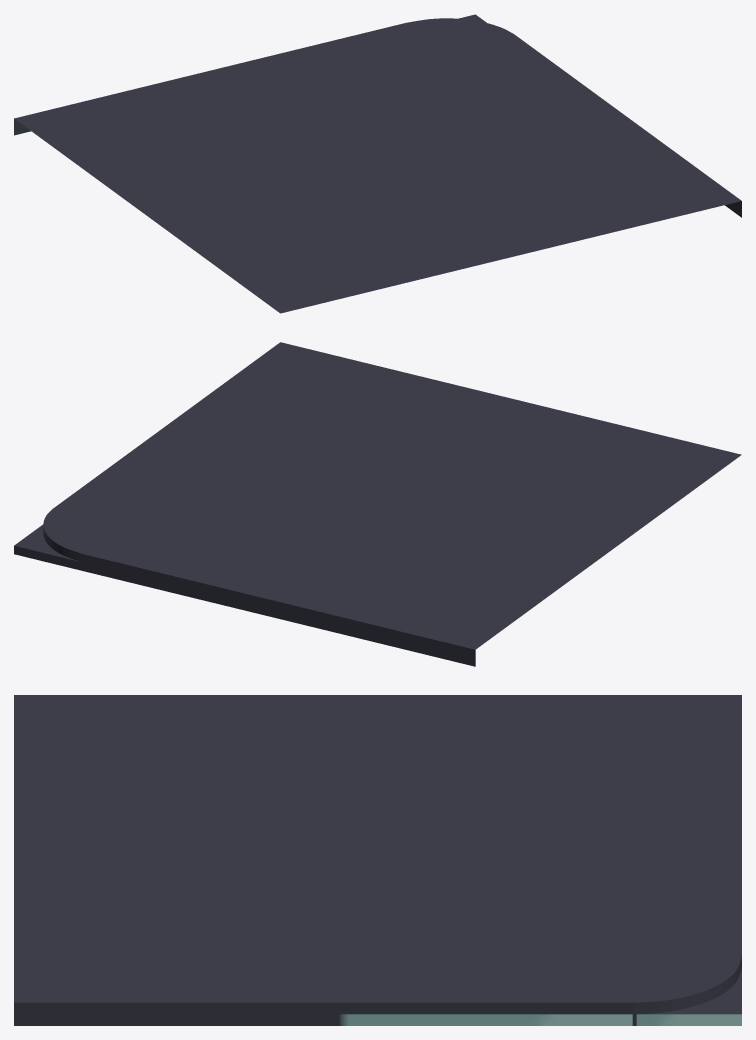
File: pavement intersection edge.fbx
3 renders of one model, top to bottom at view 1: azimuth 30°, elevation 25°; view 2: azimuth 150°, elevation 25°; view 3: azimuth 270°, elevation 25°, orthographic. The views are drawn at different scales.
Visible parts, largest first — view 1: pavement_intersection_edge; view 2: pavement_intersection_edge; view 3: pavement_intersection_edge.
Boxes of the visible parts, x1=… form: pavement_intersection_edge: x1=14, y1=14, x2=741, y2=313; pavement_intersection_edge: x1=14, y1=342, x2=741, y2=666; pavement_intersection_edge: x1=14, y1=695, x2=741, y2=1025.
Bounding box in the file's own units: 1000 × 35.23 × 1000.
